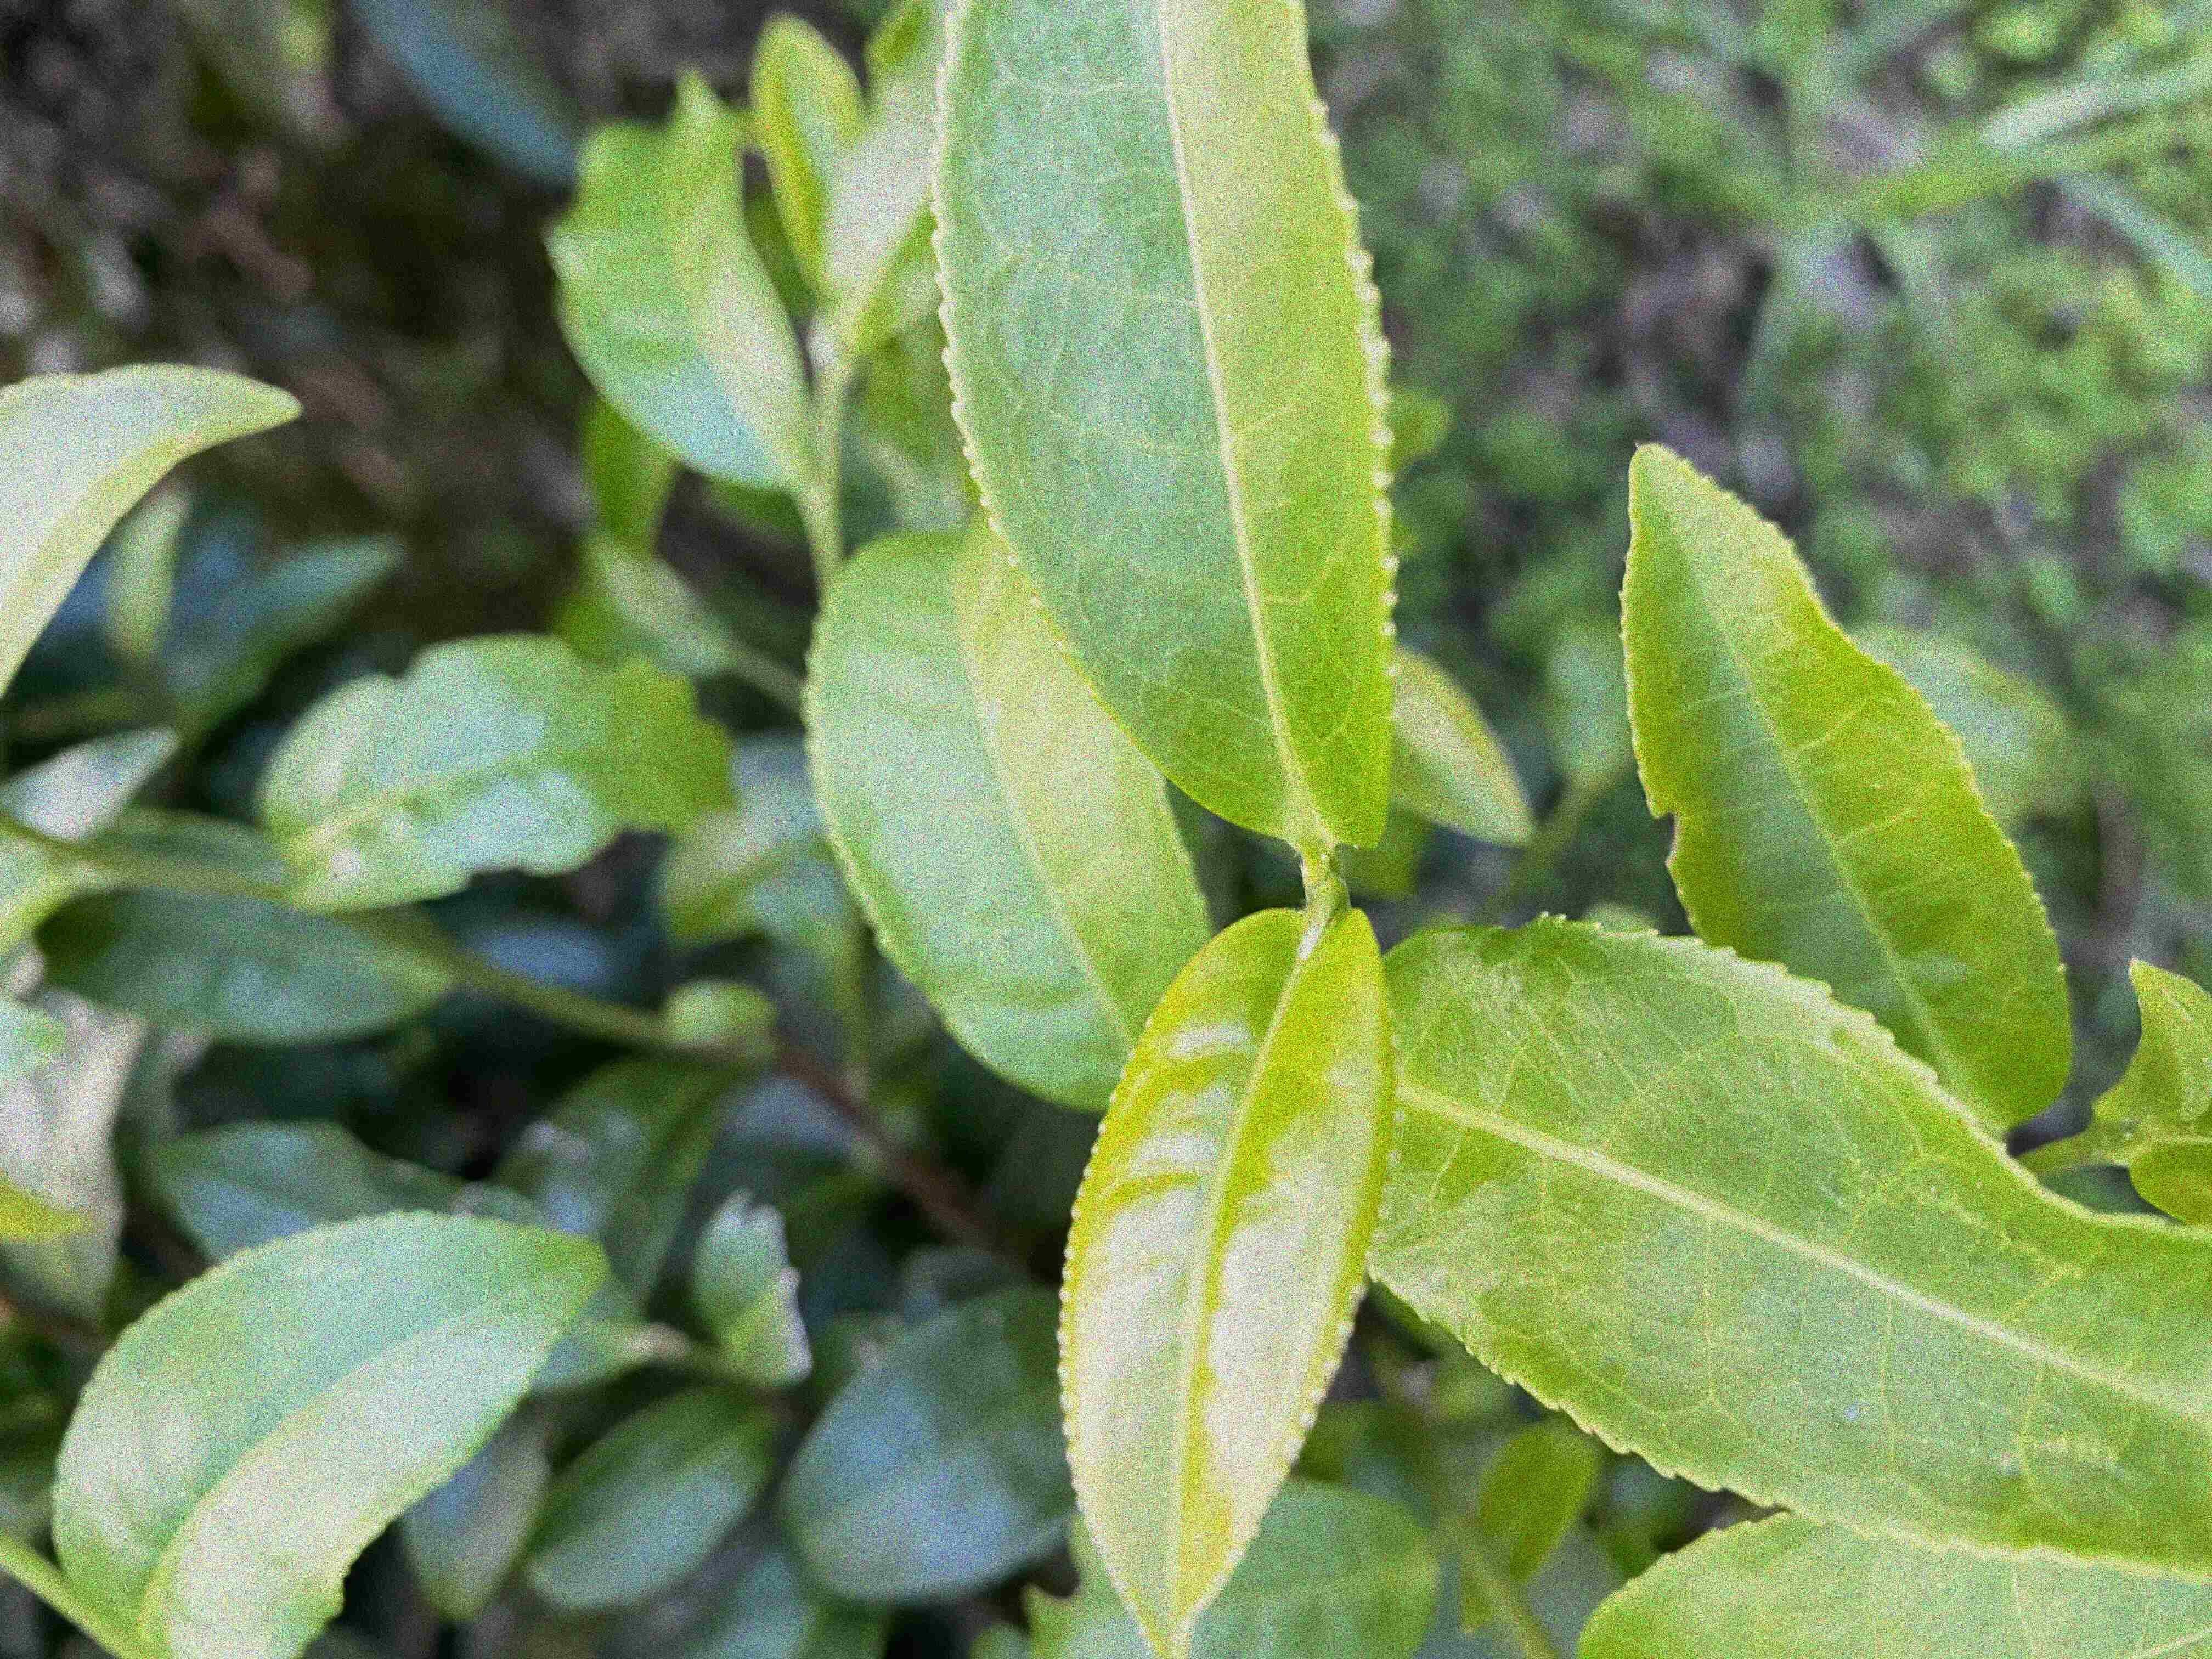chihuo_high: (253, 629, 749, 915)
chihuo_low: (1615, 443, 2078, 1133)
healthy: (1364, 906, 2209, 1589), (921, 3, 1406, 861), (1049, 899, 1407, 1654)
